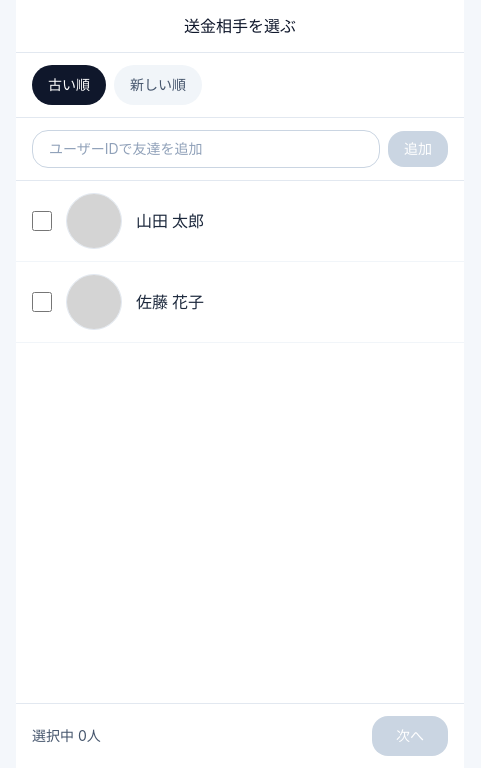
RecipientSelectionScreen › 複数選択モード › 上限に達したら未選択の相手を選べなくする
Click the checkbox labelled "山田 太郎" at (42, 221), box x1=32 y1=211 x2=52 y2=231
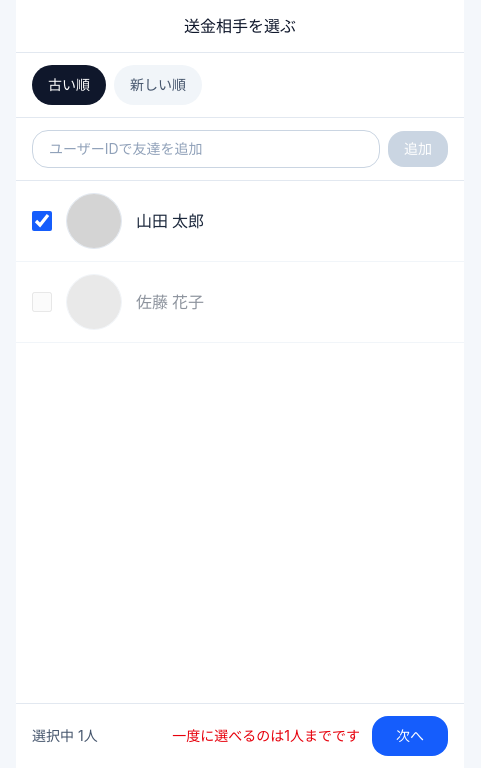
Check: the text "一度に選べるのは1人までです" is shown, box x1=172 y1=726 x2=360 y2=746
